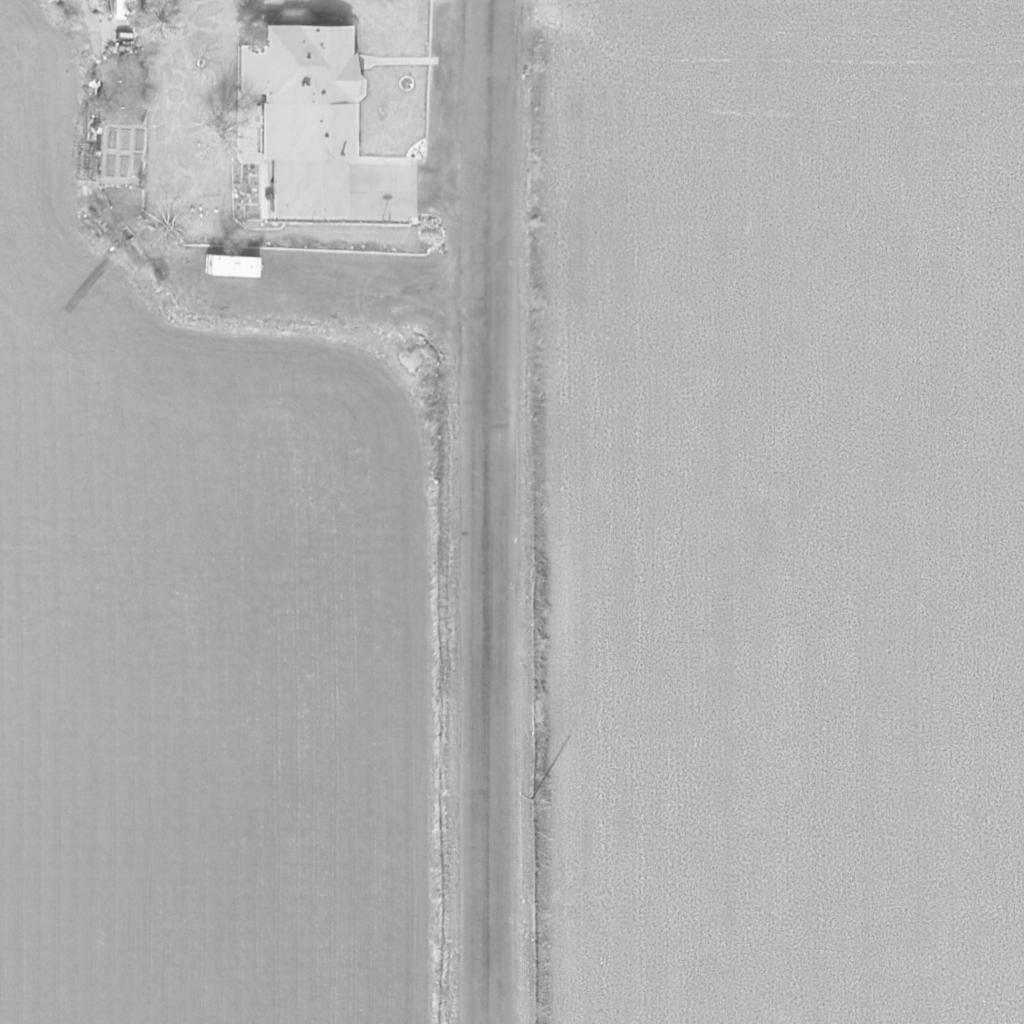vehicle: (204, 254, 266, 280)
